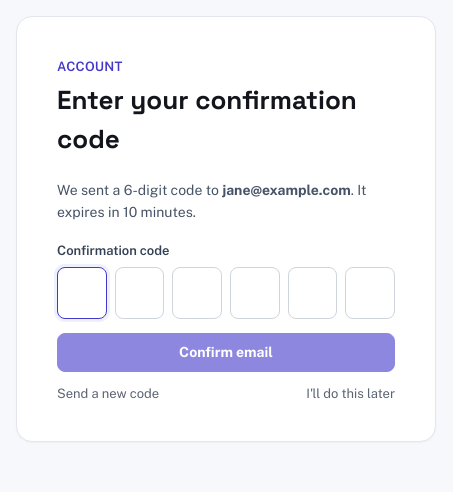
it: ConfirmEmail › clears the boxes after a rejected code so the same one isn't resubmitted
The width and height of the screenshot is (453, 492).
Step 1. Type "000000" into the field named "Digit 1 of 6" → (82, 293), box [57,267,107,319]
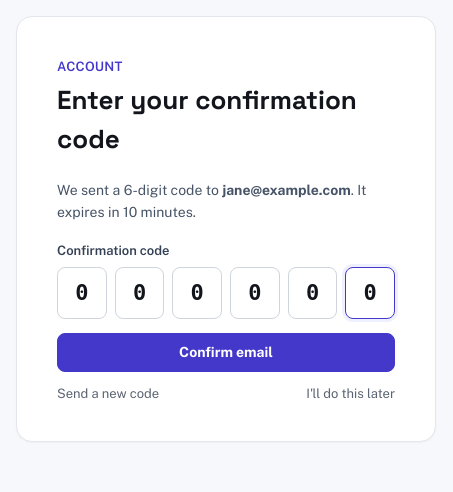
Step 2. Click the button "Confirm email" → (226, 352), box [57,333,395,372]
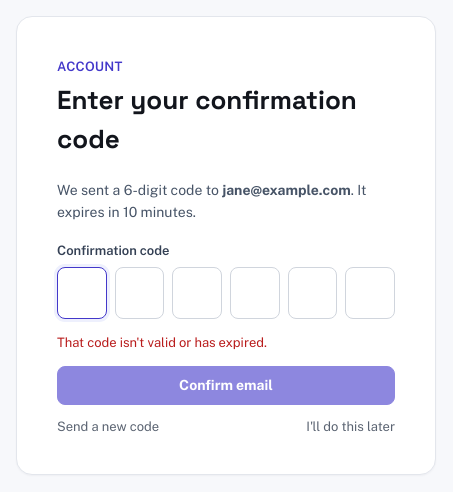
Expected: the text "That code isn't valid or has expired." is shown, [57,335,267,350]
Expected: the field named "Digit 1 of 6" is empty, [57,267,107,319]
Expected: the button "Confirm email" is disabled, [57,366,395,405]
